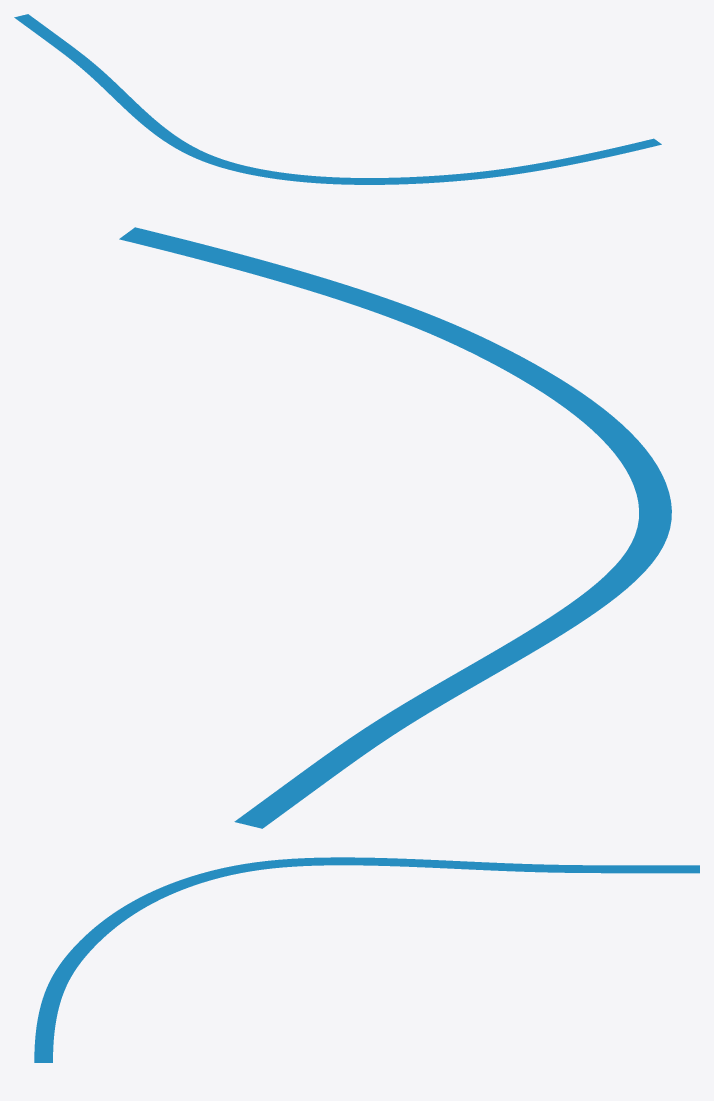
The model's file is guide.glb.
3 renders of one model, top to bottom at view 1: azimuth 30°, elevation 25°; view 2: azimuth 150°, elevation 25°; view 3: azimuth 270°, elevation 25°, orthographic. The views are drawn at different scales.
Parts seen in each view (by area): view 1: static; view 2: static; view 3: static.
Part boxes in pixels (x1,y1,x2,y2): static: [14, 14, 661, 184]; static: [119, 227, 671, 828]; static: [34, 857, 699, 1062].
Size of the model in its own units: 9.29 by 0 by 11.76.
